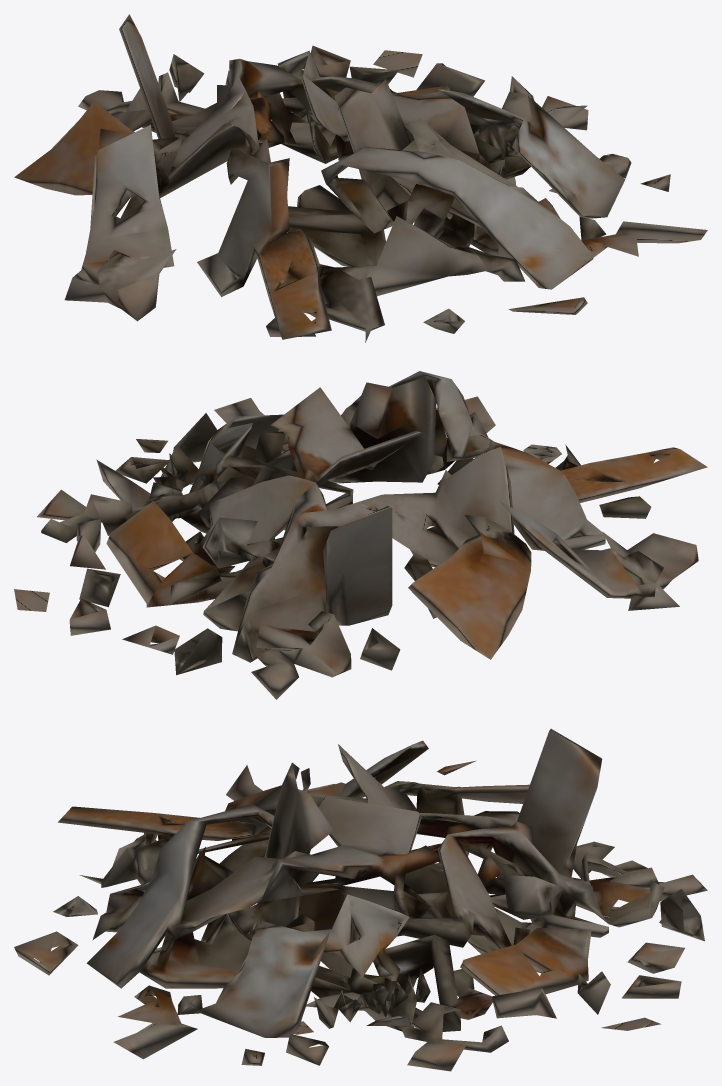
The model's file is metal_frags.4f12640259.glb.
3 views of the same model, one above another, from view 1: azimuth 30°, elevation 25°; view 2: azimuth 150°, elevation 25°; view 3: azimuth 270°, elevation 25° (orthographic).
Parts seen in each view (by area): view 1: metal_frags; view 2: metal_frags; view 3: metal_frags.
Boxes of the visible parts, x1,y1,x2,y2 form: metal_frags: (14, 14, 707, 342); metal_frags: (14, 371, 707, 699); metal_frags: (14, 728, 707, 1071).
Size of the model in its own units: 0.2114 by 0.0559 by 0.22.
Materials: 1 (1 with a texture image).
